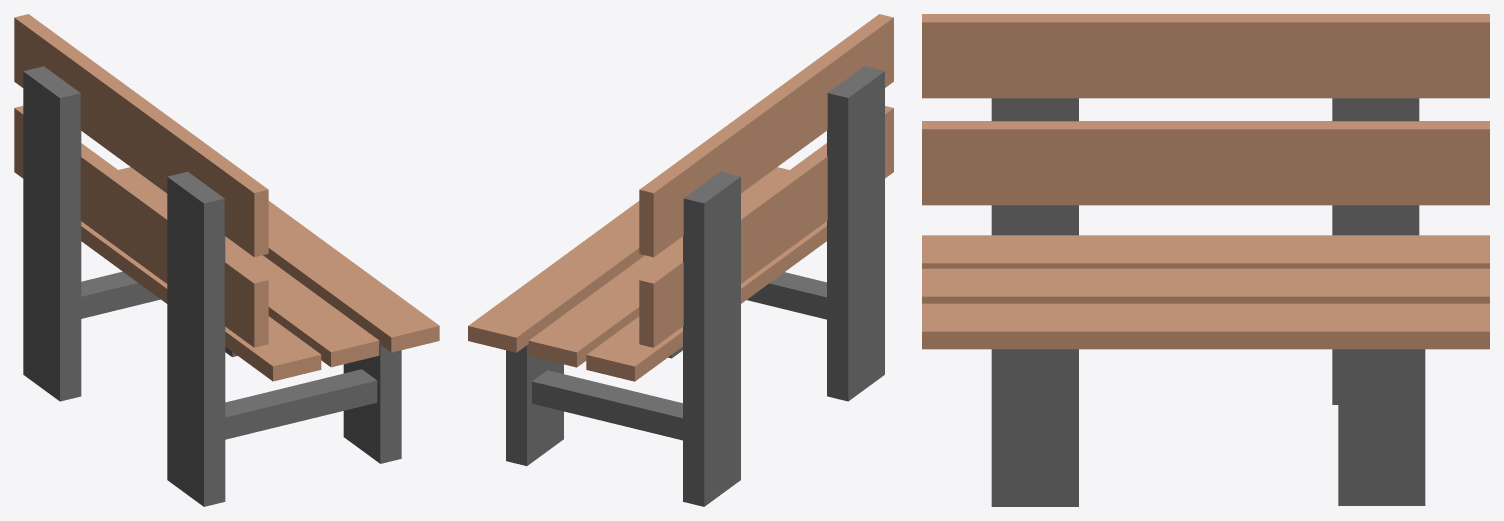
Rendered from Park bench.fbx.
The picture shows the model from 3 angles, left to right: view 1: azimuth 30°, elevation 25°; view 2: azimuth 150°, elevation 25°; view 3: azimuth 270°, elevation 25°; orthographic projection. The views are drawn at different scales.
Parts seen in each view (by area): view 1: pasted__pCube2 (×2), pCube2, pCube1, pasted__pCube1 (×2), pasted__pasted__pasted__pCube1, pasted__pasted__pCube1, pasted__pasted__pCube2, pasted__pasted__pasted__pCube2; view 2: pCube2, pasted__pCube2, pCube1, pasted__pCube1 (×2), pasted__pasted__pasted__pCube1, pasted__pasted__pCube2 (×2), pasted__pasted__pCube1, pasted__pasted__pasted__pCube2; view 3: pasted__pCube1 (×2), pCube1, pasted__pasted__pasted__pCube1, pasted__pasted__pCube1, pasted__pCube2 (×2), pasted__pasted__pCube2, pCube2.
Part boxes in pixels (x1,y1,x2,y2): pasted__pCube2 (×2): (23,66,401,463); pCube2: (167,171,225,506); pCube1: (14,14,268,257); pasted__pCube1 (×2): (14,106,321,381); pasted__pasted__pasted__pCube1: (263,201,439,352); pasted__pasted__pCube1: (118,167,379,367); pasted__pasted__pCube2: (225,369,377,439); pasted__pasted__pasted__pCube2: (81,271,160,318); pCube2: (827,66,884,401); pasted__pCube2: (683,171,740,506); pCube1: (639,14,893,257); pasted__pCube1 (×2): (586,106,893,381); pasted__pasted__pasted__pCube1: (468,201,644,352); pasted__pasted__pCube2 (×2): (506,272,826,465); pasted__pasted__pCube1: (528,167,789,367); pasted__pasted__pasted__pCube2: (532,370,682,440); pasted__pCube1 (×2): (922,121,1489,268); pCube1: (922,14,1489,98); pasted__pasted__pasted__pCube1: (922,303,1489,349); pasted__pasted__pCube1: (922,268,1489,303); pasted__pCube2 (×2): (991,98,1419,506); pasted__pasted__pCube2: (1338,349,1425,505); pCube2: (991,98,1078,235).
Bounding box in the file's own units: 2.07 × 3.16 × 4.16.
